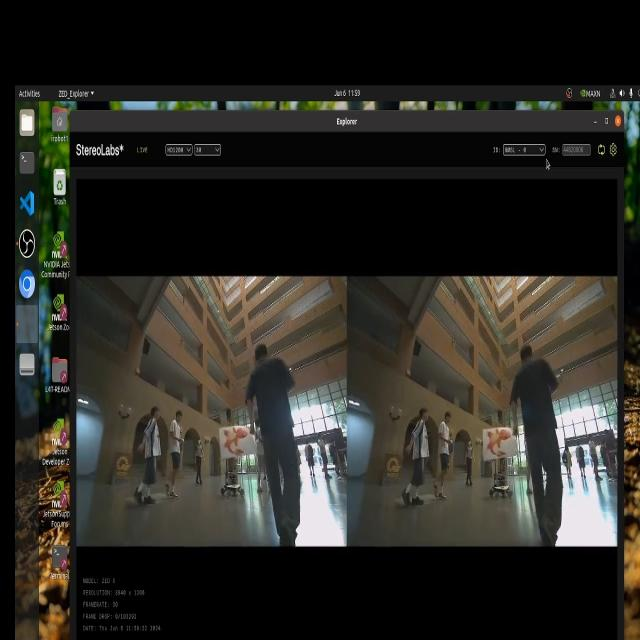red: (487, 419, 525, 464), (220, 425, 256, 456)
